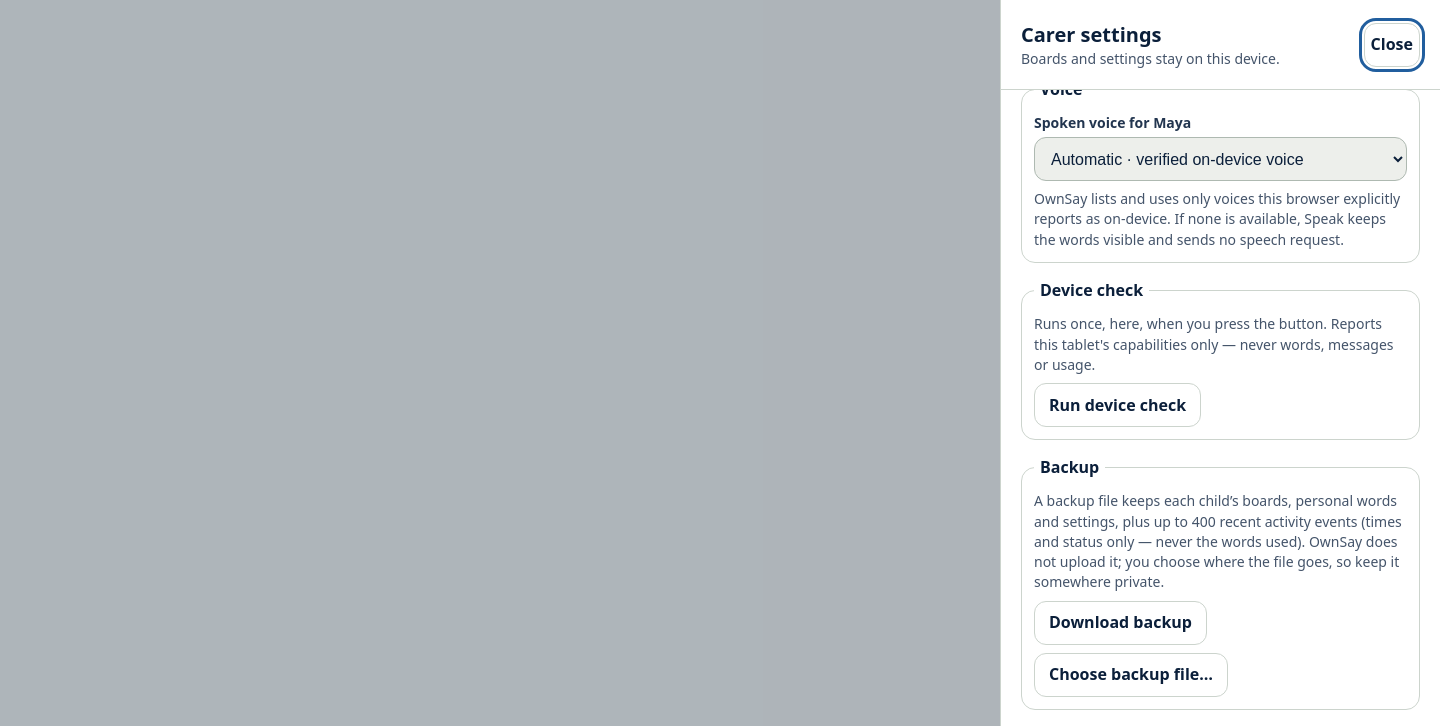
Test: carer drawer › device check audible proof › shows a could-not-start outcome with no hearing prompt at all
This screenshot has width=1440, height=726.
(page scrolled)
Click the button "Run device check" at {"x": 1118, "y": 405}, box x1=1034 y1=383 x2=1201 y2=427
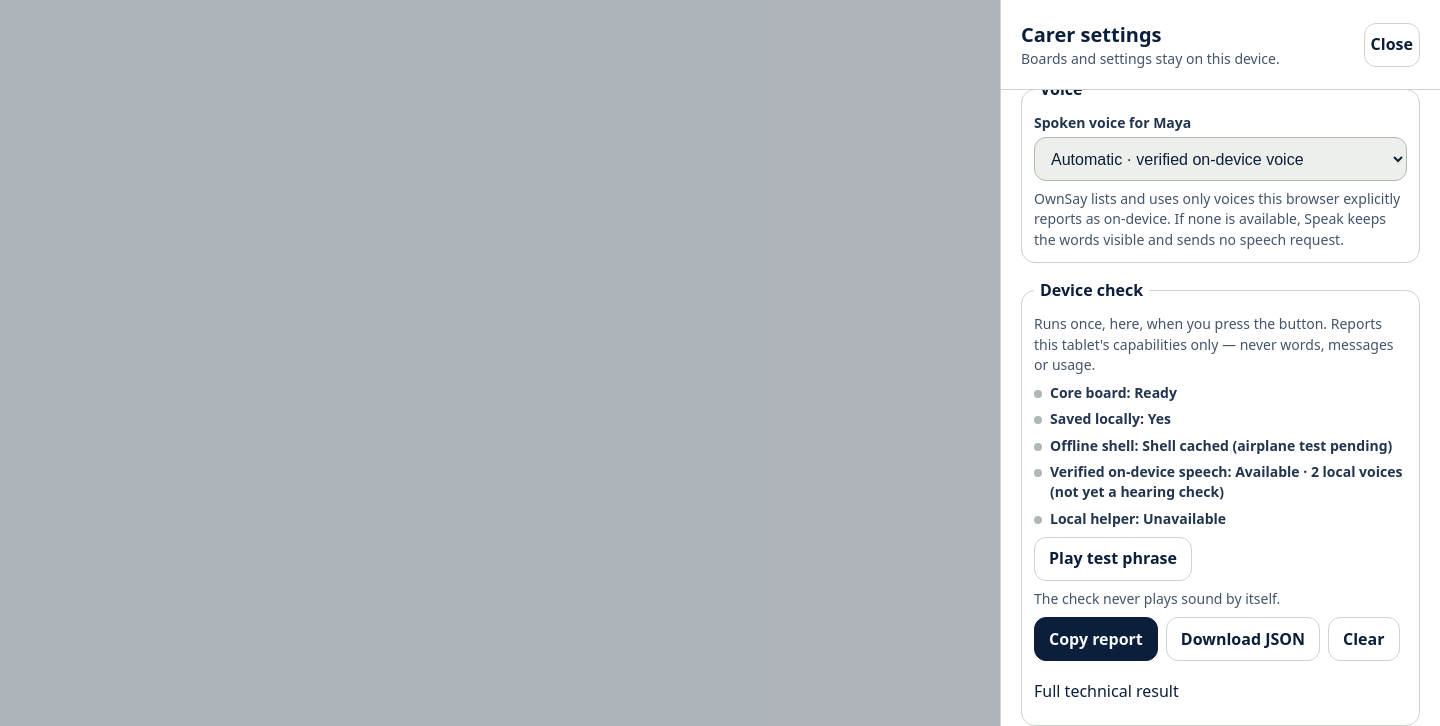
Now the list item "Verified on-device speech:" is shown, box x1=1050 y1=462 x2=1232 y2=481
Click the button "Play test phrase" at {"x": 1113, "y": 559}, box x1=1034 y1=537 x2=1192 y2=581
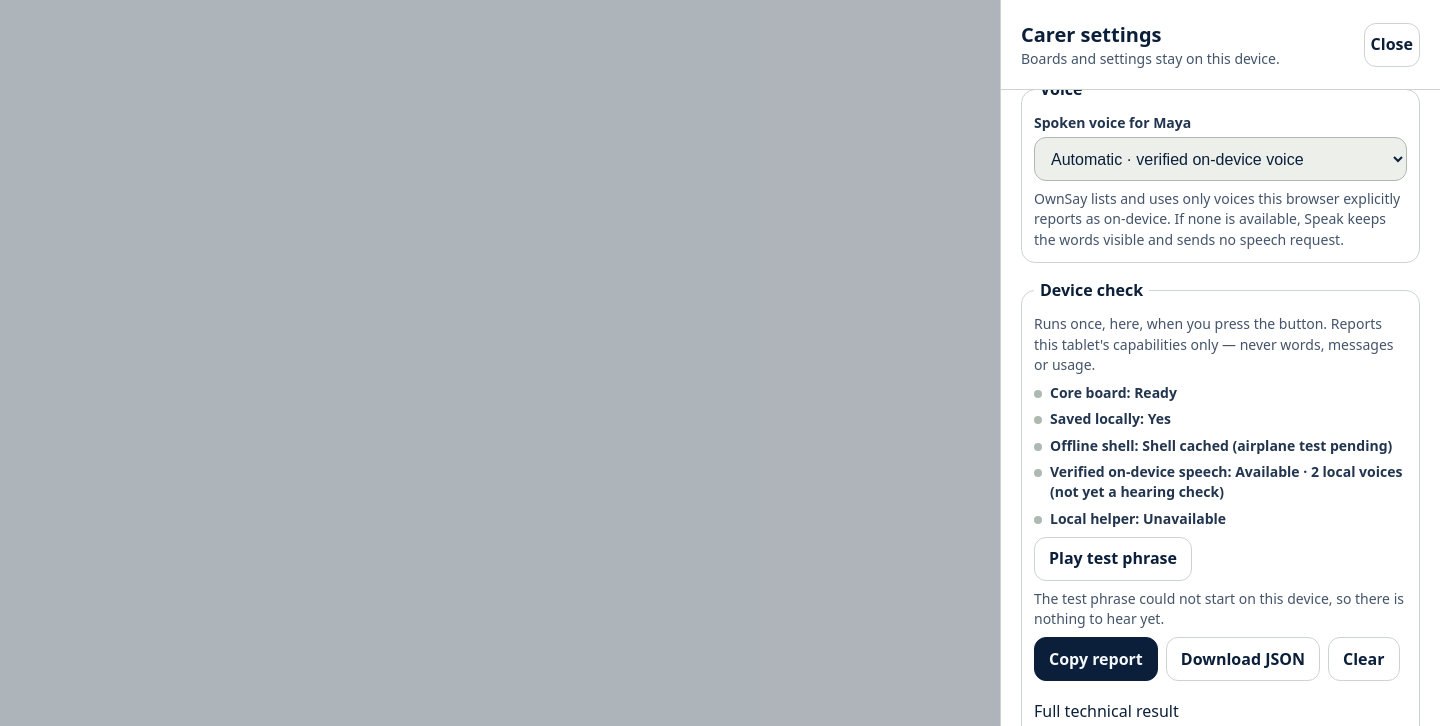
Now the text "could not start on this device" is shown, box x1=1034 y1=589 x2=1404 y2=628
